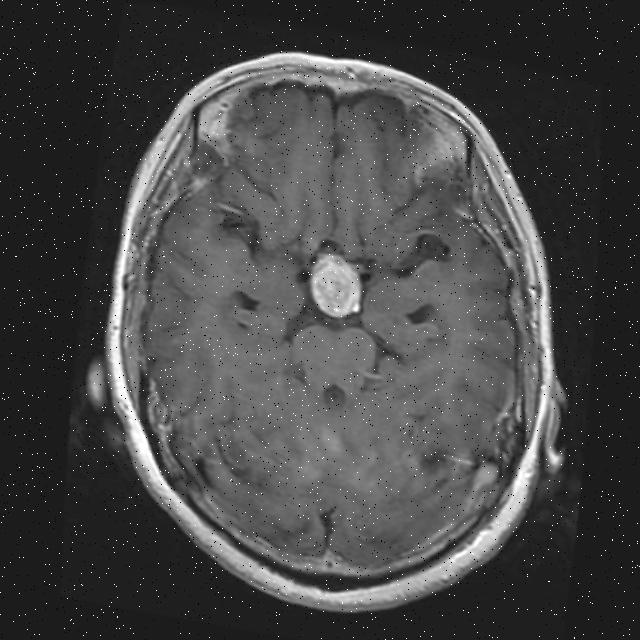Pituitary: (302, 250, 367, 320)
